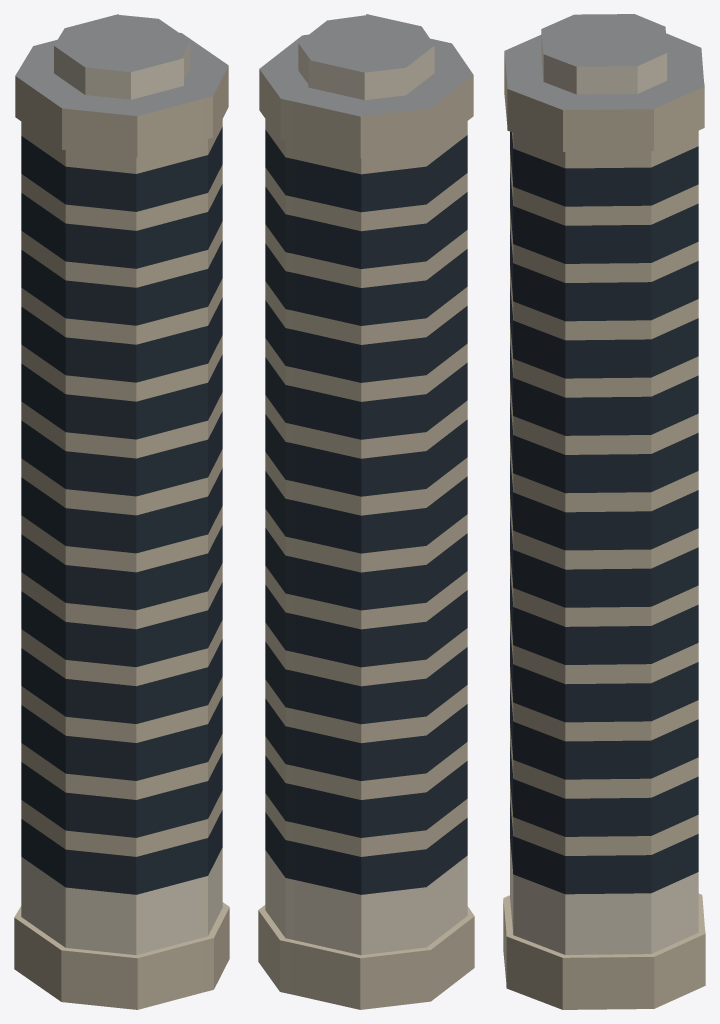
The model's file is 455_karen_avenue_w134696138.glb.
3 views of the same model, side by side, from view 1: azimuth 30°, elevation 25°; view 2: azimuth 150°, elevation 25°; view 3: azimuth 270°, elevation 25° (orthographic).
Parts seen in each view (by area): view 1: Karen_Avenue_Tower; view 2: Karen_Avenue_Tower; view 3: Karen_Avenue_Tower.
Boxes of the visible parts, x1,y1,x2,y2 form: Karen_Avenue_Tower: (14, 14, 229, 1009); Karen_Avenue_Tower: (258, 14, 474, 1009); Karen_Avenue_Tower: (503, 14, 705, 1009).
Size of the model in its own units: 10.47 by 53.4 by 10.56.
